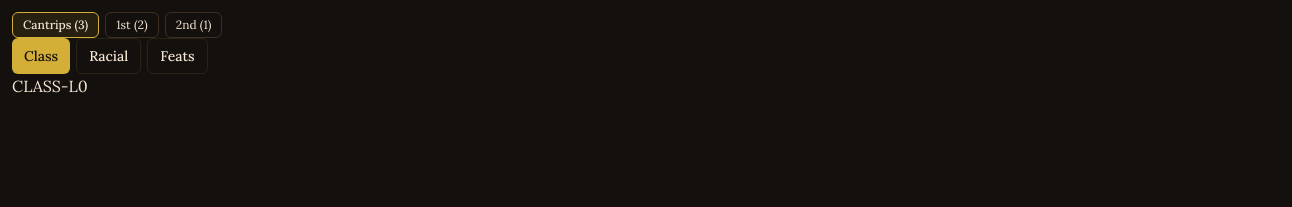
Scenario: SpellSourceLevelView › switching the source shows racial / feat content at the active level
The width and height of the screenshot is (1292, 207).
Click the button with test id "spell-source-racial" at (109, 56), box [76, 38, 141, 74]
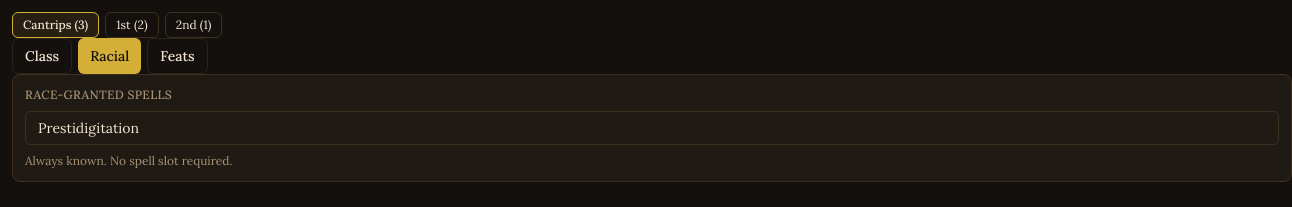
Expected: the button "Prestidigitation" is shown, [38, 118, 1258, 138]
Click the button with test id "spell-source-feats" at (177, 56), box [147, 38, 208, 74]
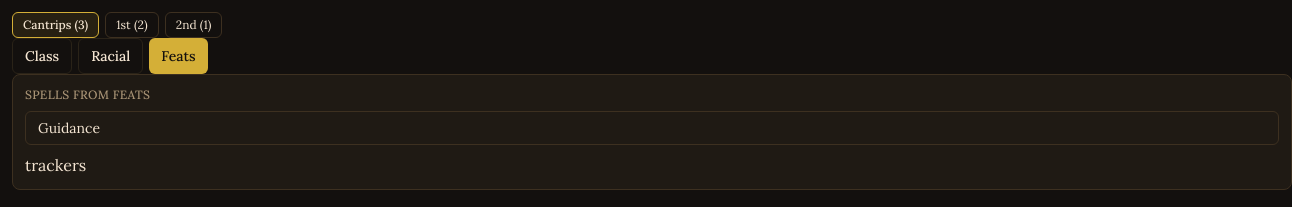
Expected: the button "Guidance" is shown, [38, 118, 1258, 138]
